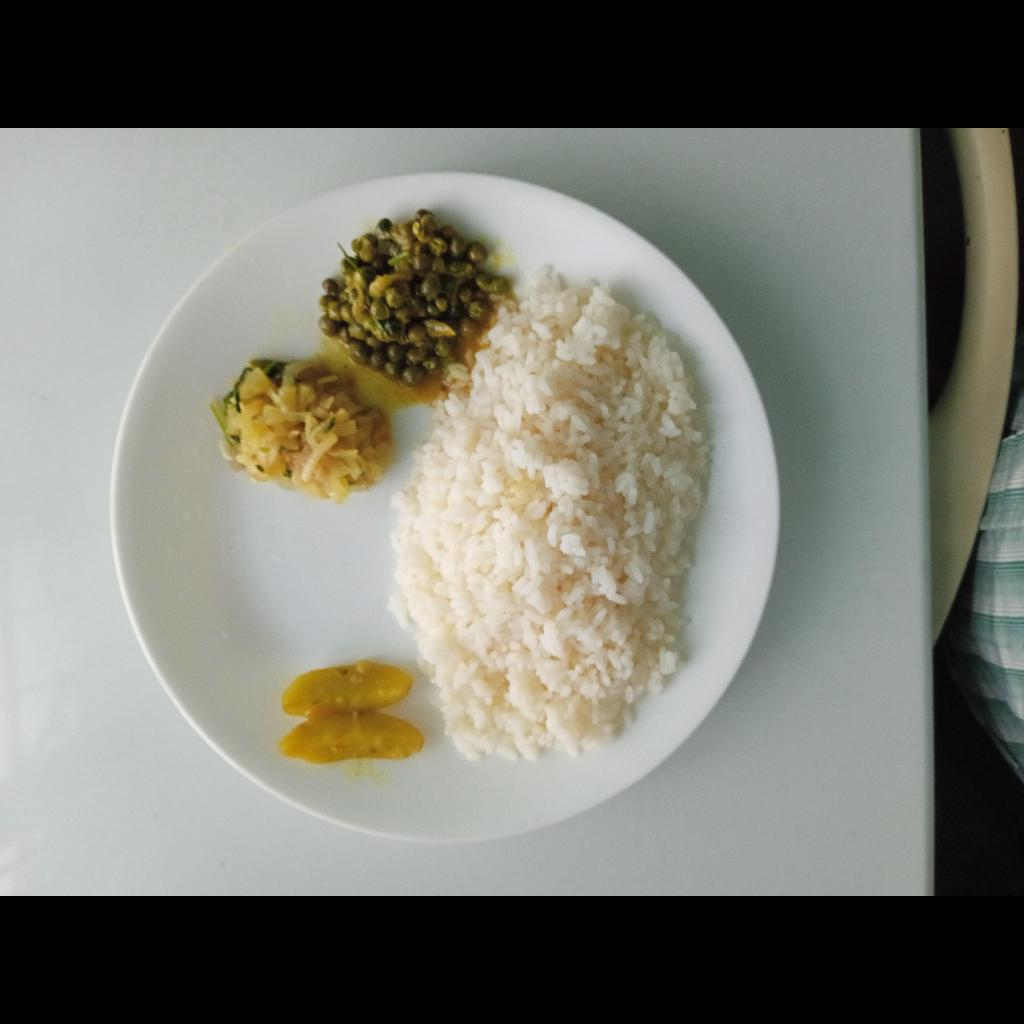cabbage: (217, 355, 394, 505)
green-pea: (315, 212, 502, 382)
potato: (278, 665, 426, 764)
rice: (399, 271, 712, 758)
